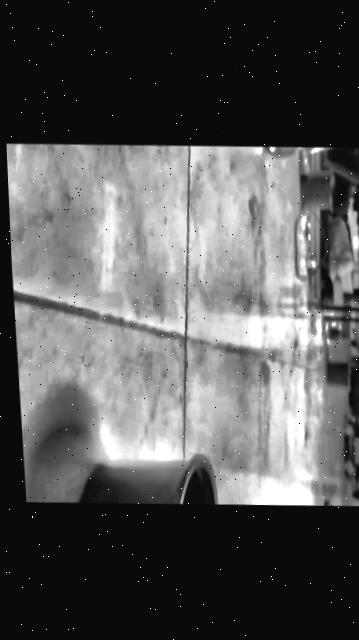pot: (74, 451, 216, 507)
